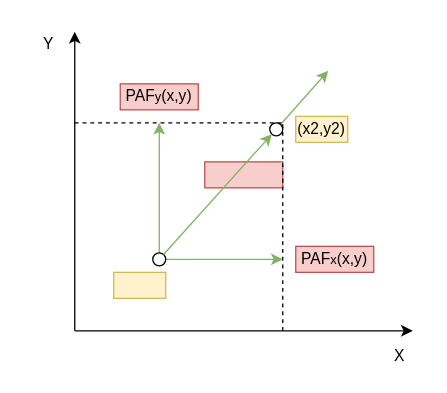
This 447x393 diagram has some shape labels left out. The shapes that lost their labels are listed below. From the top down, each one's centre as x and y in pixels, then its label:
the point at 243,174: PAF(x,y)
the point at 139,284: (x1,y1)
